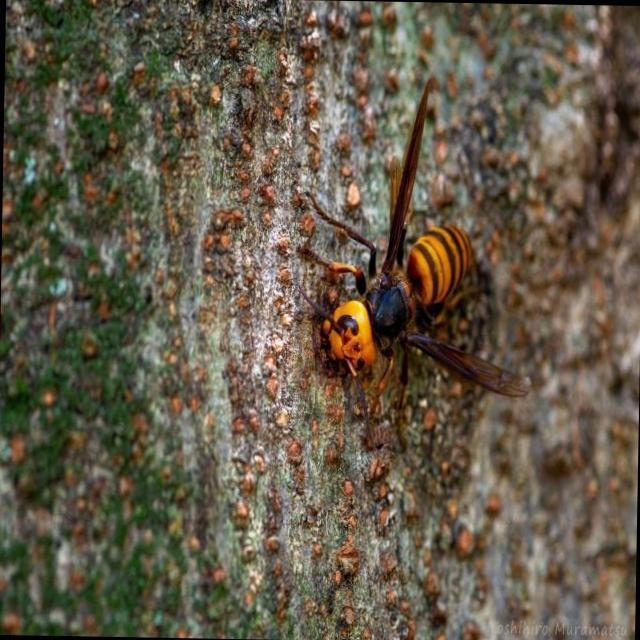Wasp: (283, 68, 529, 442)
